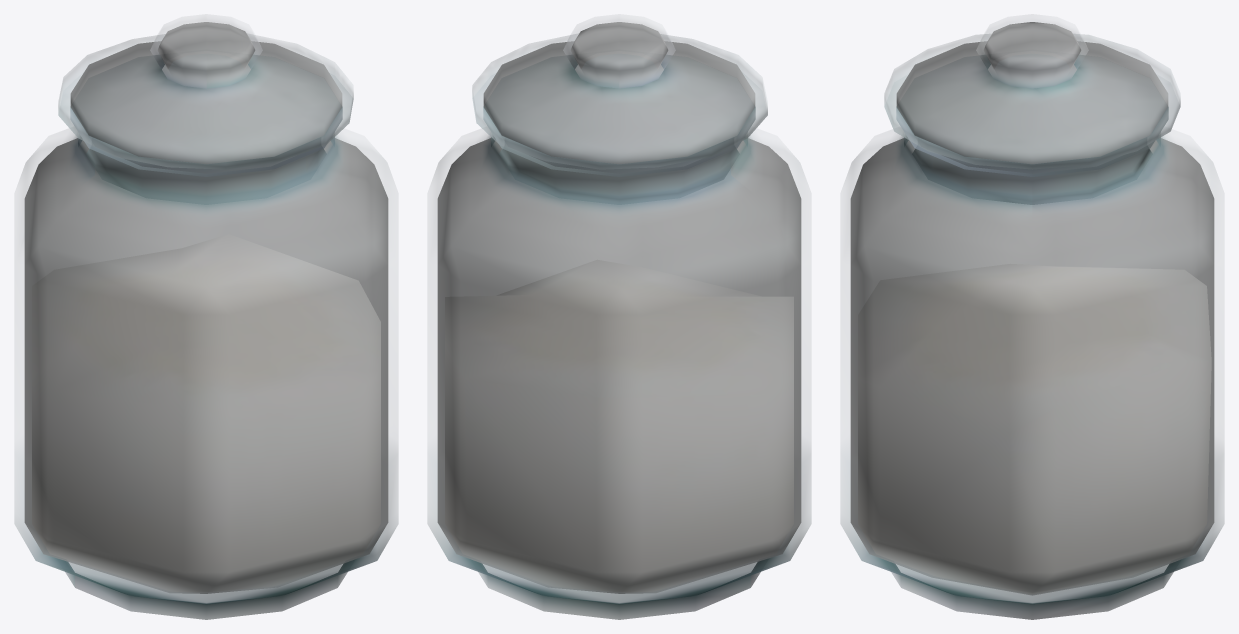
The picture shows the model from 3 angles, left to right: view 1: azimuth 30°, elevation 25°; view 2: azimuth 150°, elevation 25°; view 3: azimuth 270°, elevation 25°; orthographic projection.
Bounding box in the file's own units: 4.95 × 6.83 × 4.57.
3 materials, 3 textured.
